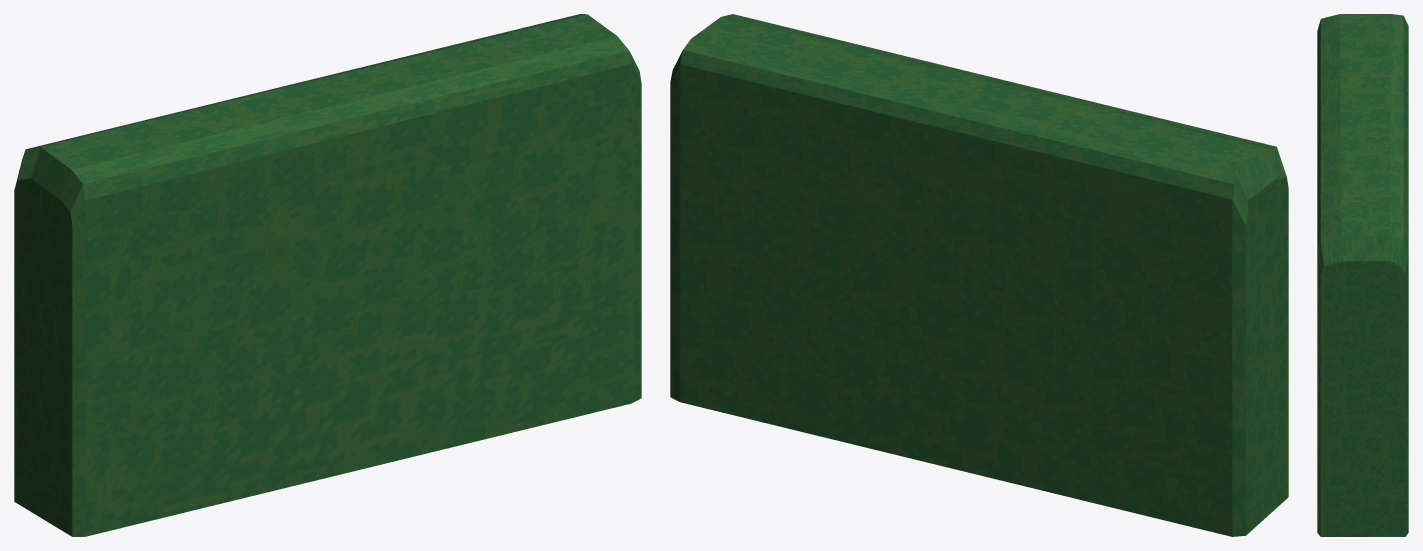
The model's file is junglewall.gltf.
The picture shows the model from 3 angles, left to right: view 1: azimuth 30°, elevation 25°; view 2: azimuth 150°, elevation 25°; view 3: azimuth 270°, elevation 25°; orthographic projection. The views are drawn at different scales.
Parts seen in each view (by area): view 1: Cube.001; view 2: Cube.001; view 3: Cube.001.
Boxes of the visible parts, box(x1,y1,x2,y2) form: Cube.001: box(14, 14, 641, 536); Cube.001: box(670, 14, 1288, 536); Cube.001: box(1317, 14, 1408, 536).
Bounding box in the file's own units: 62.31 × 36.82 × 10.26.
Materials: 1 (1 with a texture image).
